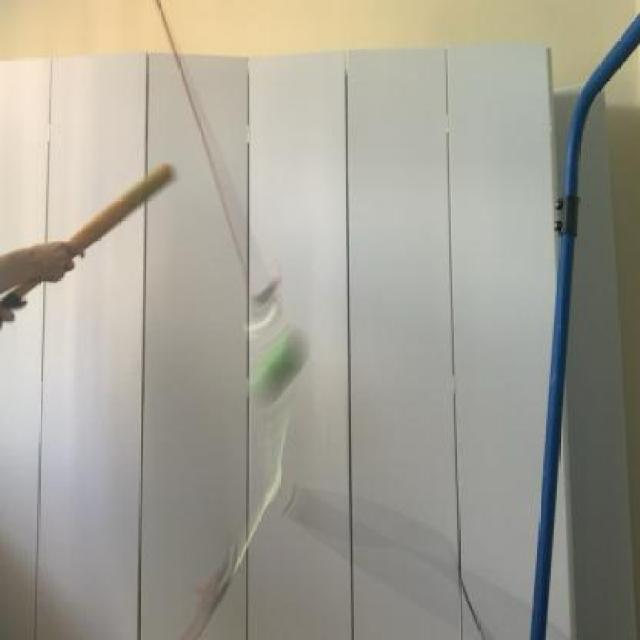baseball: (251, 318, 315, 420)
